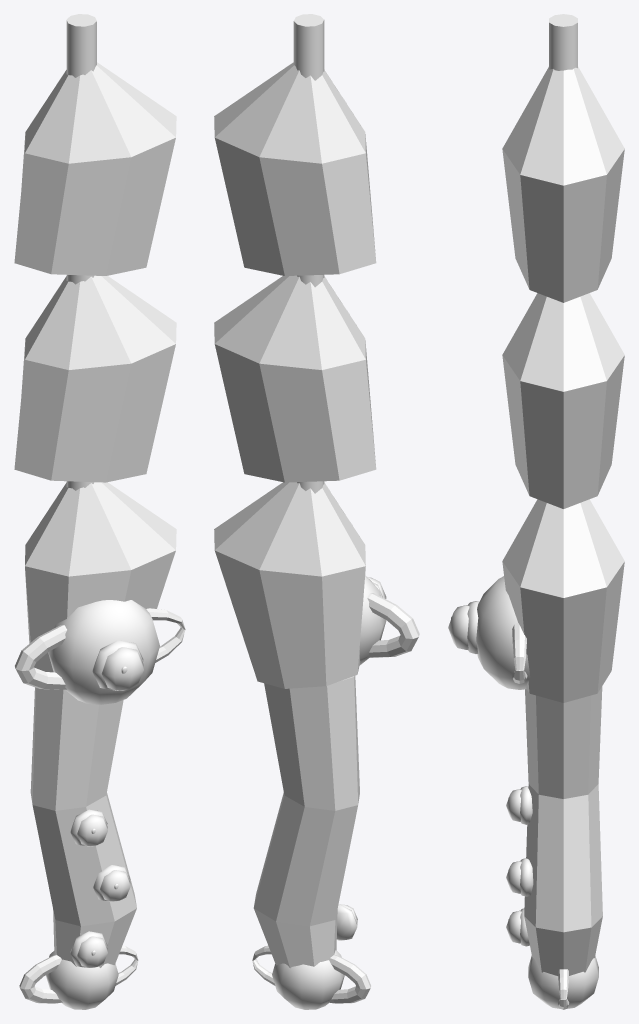
The model's file is sword.obj.
The picture shows the model from 3 angles, left to right: view 1: azimuth 30°, elevation 25°; view 2: azimuth 150°, elevation 25°; view 3: azimuth 270°, elevation 25°; orthographic projection.
Parts seen in each view (by area): view 1: head, handle, ornaments; view 2: head, handle, ornaments; view 3: head, handle, ornaments.
Part boxes in pixels (box(x1,y1,x2,y2)): head: box(14, 14, 176, 672); handle: box(19, 687, 138, 1009); ornaments: box(15, 600, 185, 704); head: box(214, 14, 376, 688); handle: box(252, 676, 370, 1009); ornaments: box(359, 575, 419, 665); head: box(502, 14, 624, 702); handle: box(506, 686, 602, 1009); ornaments: box(448, 576, 530, 689).
Size of the model in its own units: 0.2008 by 1.04 by 0.1683.
